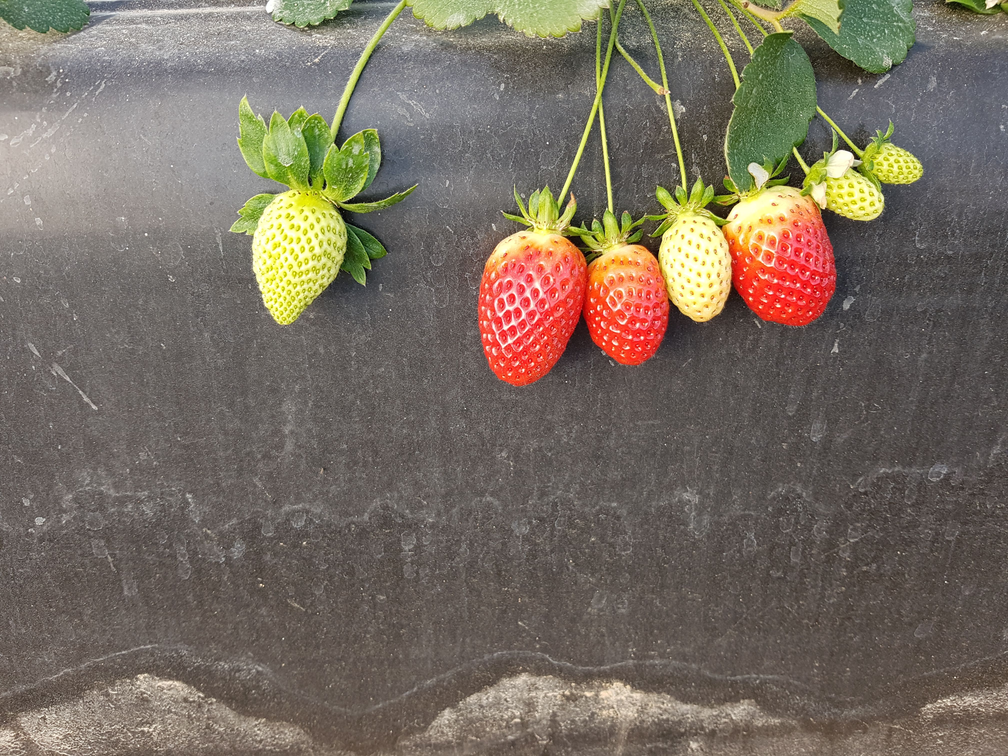peduncle: (559, 0, 625, 200), (331, 0, 406, 138), (638, 0, 685, 189), (691, 0, 739, 88), (817, 107, 861, 157), (600, 104, 613, 211), (793, 148, 808, 175)
strawberry: (479, 226, 586, 385), (723, 186, 835, 325), (253, 190, 346, 323), (654, 179, 730, 321), (584, 244, 668, 364), (826, 169, 883, 220), (864, 139, 922, 183)
